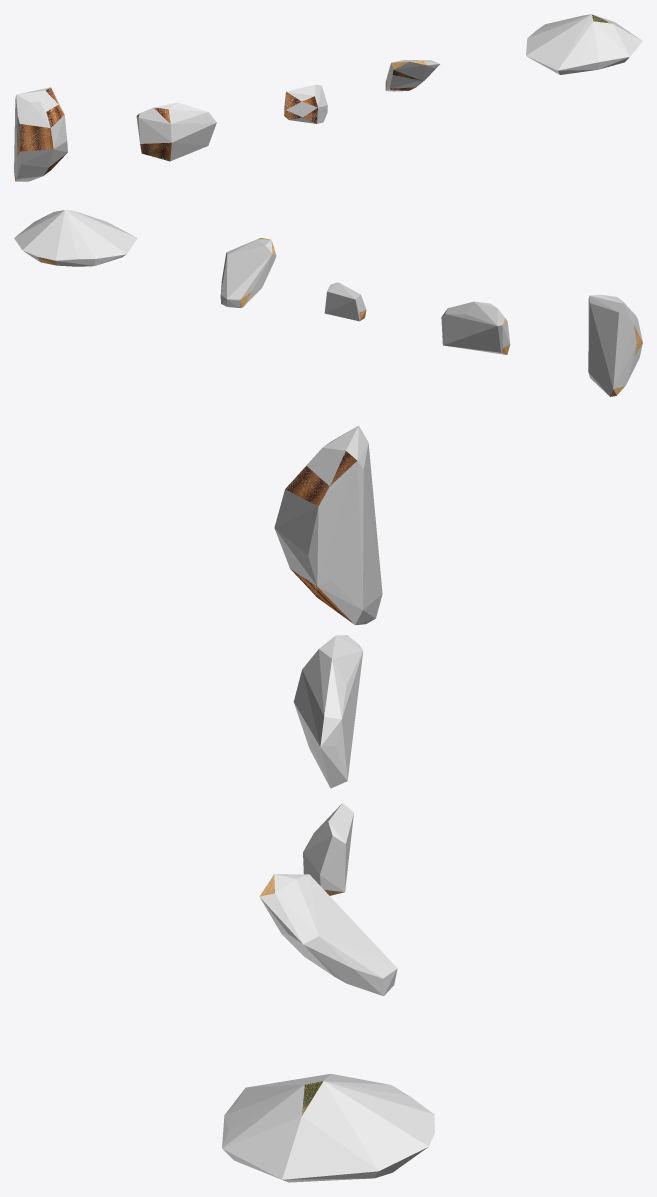
File: SM_DB05_PumpkinChunks.fbx
3 views of the same model, one above another, from view 1: azimuth 30°, elevation 25°; view 2: azimuth 150°, elevation 25°; view 3: azimuth 270°, elevation 25° (orthographic). The views are drawn at different scales.
Visible parts, largest first — view 1: DB05_Pumpkin_Top_COL, DB05_Pumpkin_SliceTall_COL, DB05_Pumpkin_SliceWide_COL, DB05_Pumpkin_SliceTall, DB05_Pumpkin_SliceSmall_COL, DB05_Pumpkin_SliceBottom_COL, DB05_Pumpkin_SliceWide, DB05_Pumpkin_SliceSmall, DB05_Pumpkin_SliceBottom; view 2: DB05_Pumpkin_Top_COL, DB05_Pumpkin_SliceTall_COL, DB05_Pumpkin_SliceWide_COL, DB05_Pumpkin_SliceBottom_COL, DB05_Pumpkin_SliceSmall_COL; view 3: DB05_Pumpkin_Top_COL, DB05_Pumpkin_SliceTall_COL, DB05_Pumpkin_SliceBottom_COL, DB05_Pumpkin_SliceWide_COL, DB05_Pumpkin_SliceSmall_COL, DB05_Pumpkin_SliceTall.
Part boxes in pixels (box(x1,y1,x2,y2)): DB05_Pumpkin_Top_COL: box(526, 14, 642, 74); DB05_Pumpkin_SliceTall_COL: box(14, 87, 67, 181); DB05_Pumpkin_SliceWide_COL: box(136, 102, 216, 161); DB05_Pumpkin_SliceTall: box(14, 87, 66, 180); DB05_Pumpkin_SliceSmall_COL: box(284, 84, 327, 123); DB05_Pumpkin_SliceBottom_COL: box(385, 60, 439, 91); DB05_Pumpkin_SliceWide: box(137, 107, 171, 161); DB05_Pumpkin_SliceSmall: box(284, 92, 317, 123); DB05_Pumpkin_SliceBottom: box(385, 61, 427, 90); DB05_Pumpkin_Top_COL: box(14, 210, 137, 266); DB05_Pumpkin_SliceTall_COL: box(588, 294, 642, 396); DB05_Pumpkin_SliceWide_COL: box(441, 301, 510, 354); DB05_Pumpkin_SliceBottom_COL: box(220, 238, 276, 307); DB05_Pumpkin_SliceSmall_COL: box(324, 282, 366, 321); DB05_Pumpkin_Top_COL: box(222, 1073, 434, 1182); DB05_Pumpkin_SliceTall_COL: box(274, 425, 382, 625); DB05_Pumpkin_SliceBottom_COL: box(259, 874, 397, 996); DB05_Pumpkin_SliceWide_COL: box(293, 635, 363, 788); DB05_Pumpkin_SliceSmall_COL: box(303, 803, 353, 893); DB05_Pumpkin_SliceTall: box(285, 451, 357, 623).
Size of the model in its own units: 3.9 by 0.5589 by 0.5835.
